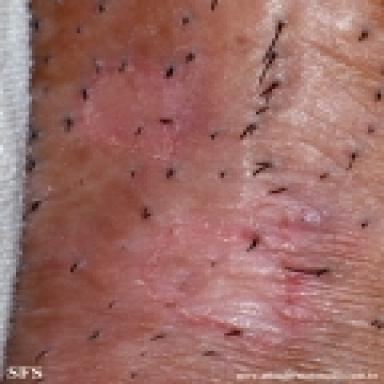Porokeratosis: (143, 194, 326, 342), (77, 49, 204, 159)
